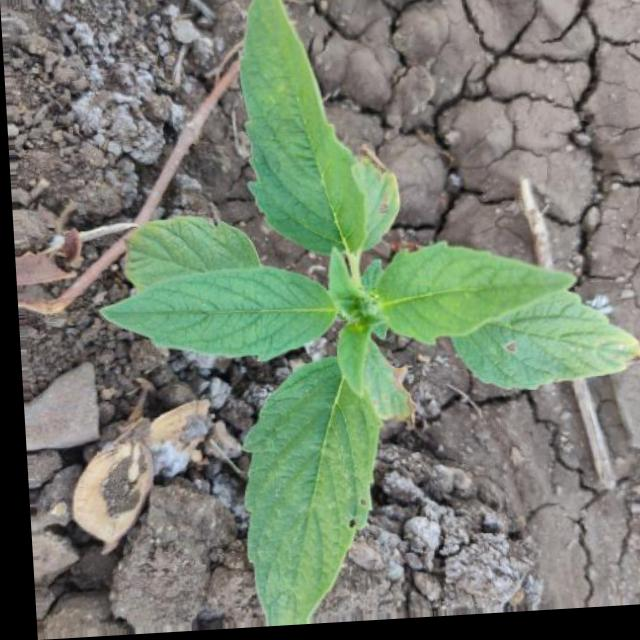crop: (67, 0, 591, 635)
